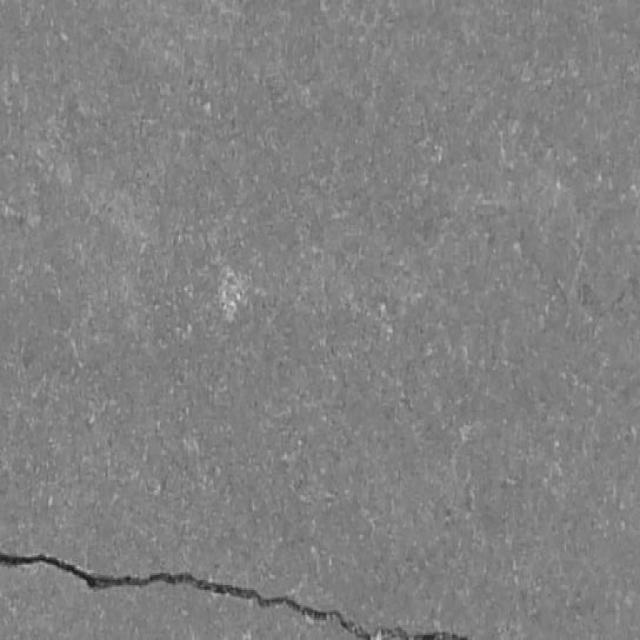SurfaceCrack: (1, 500, 638, 638)
